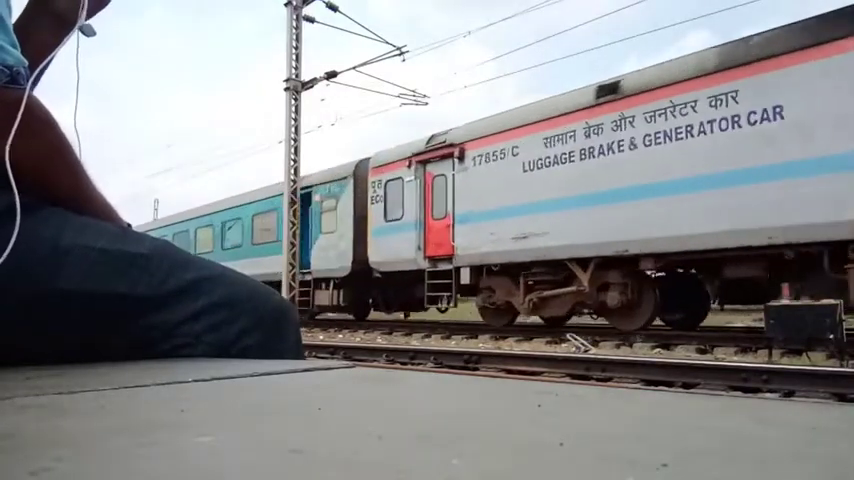Boogie: (458, 140, 522, 176)
Car Type: (522, 85, 808, 180)
